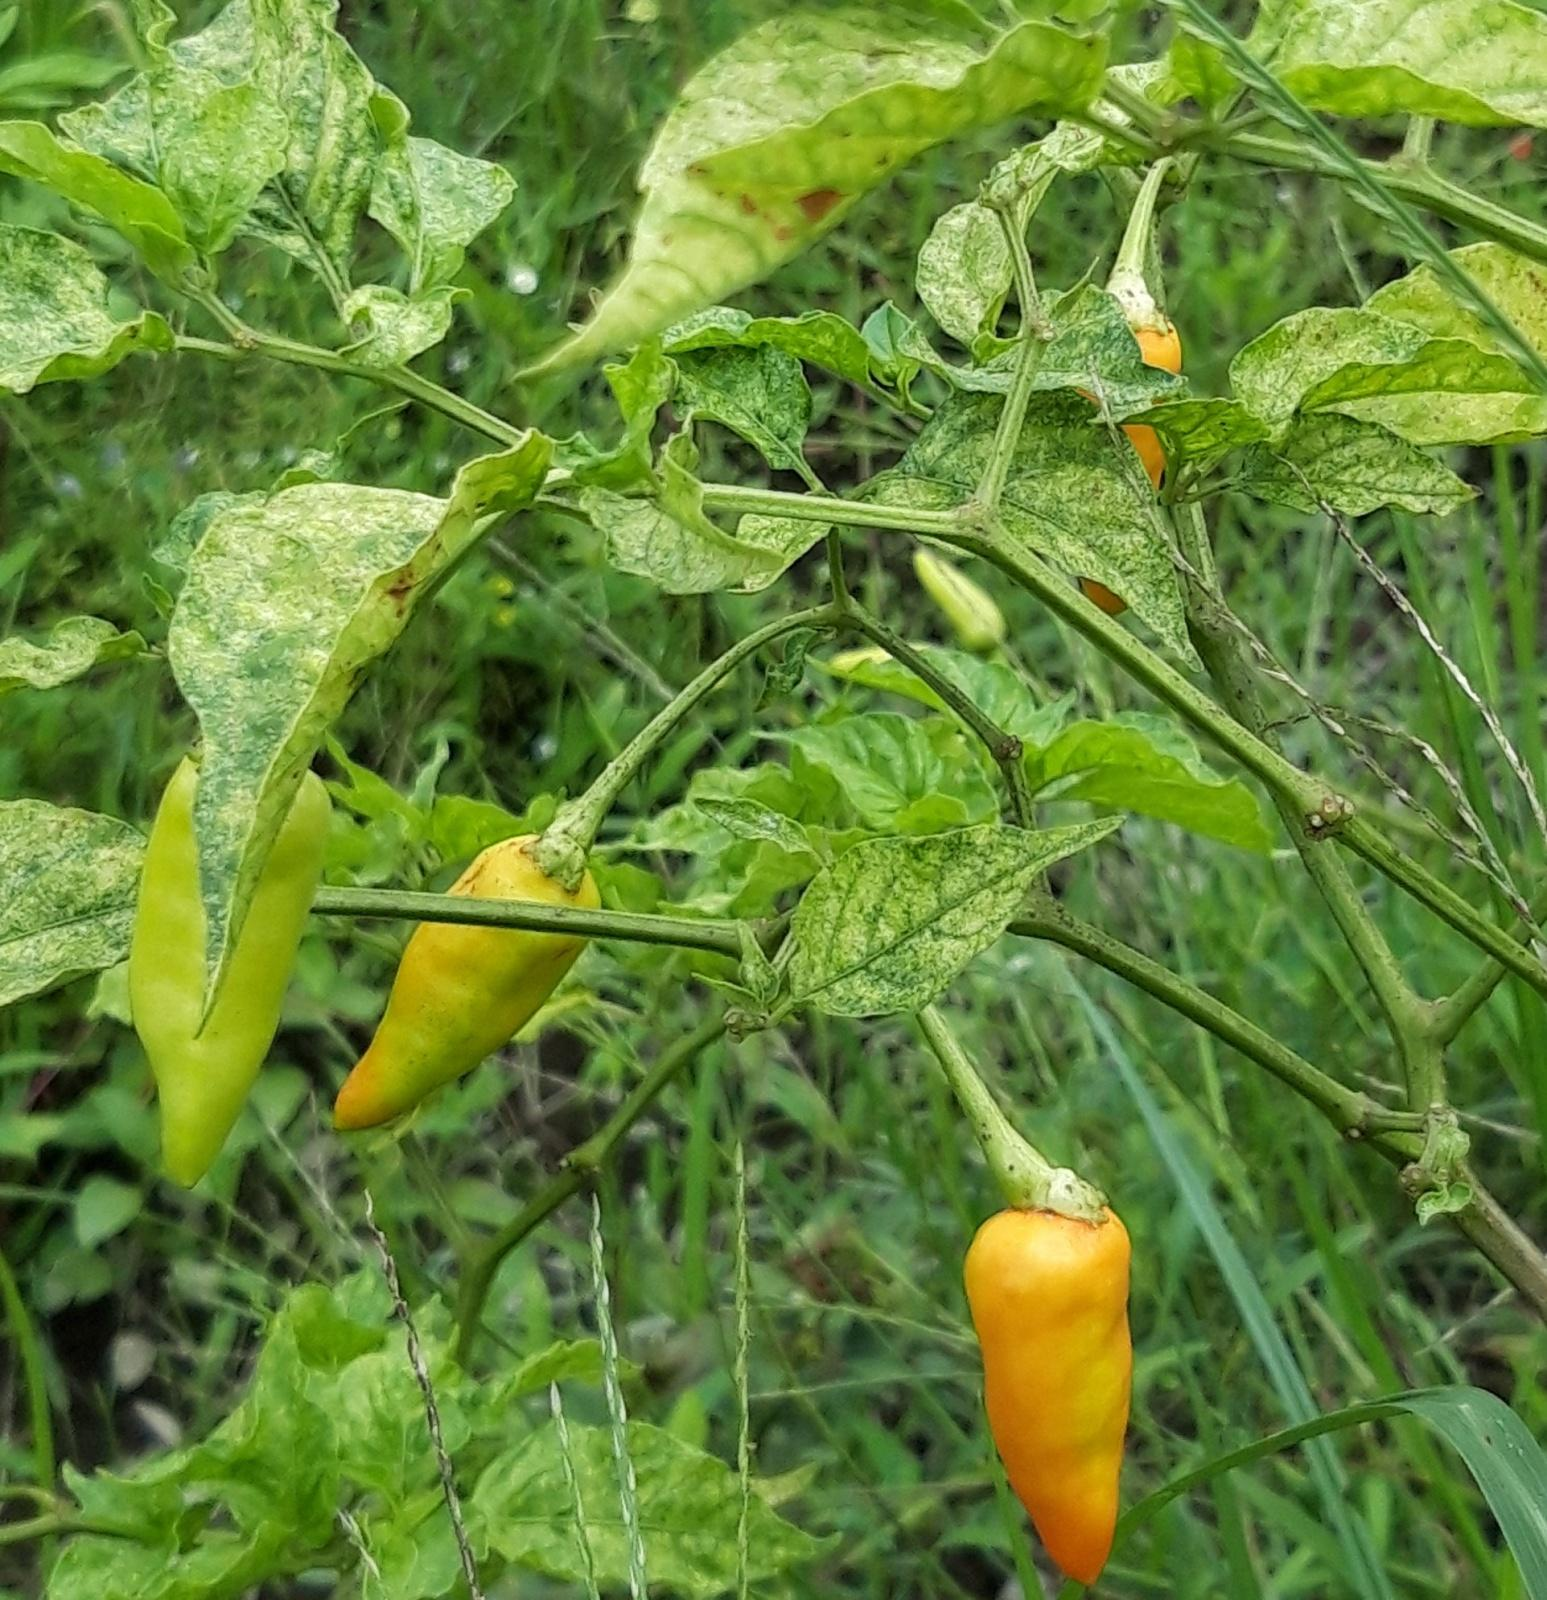cabai_normal: (130, 761, 330, 1189), (331, 834, 600, 1131), (964, 1207, 1130, 1589), (914, 550, 1006, 651)
